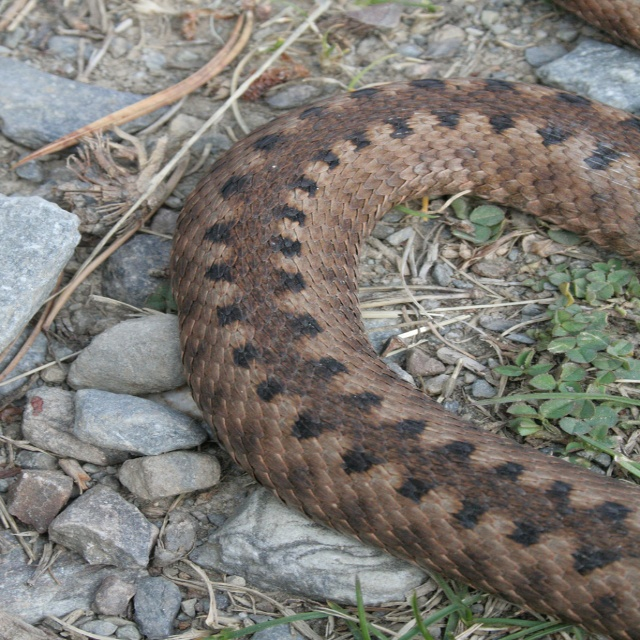Snake: (171, 0, 640, 640)
